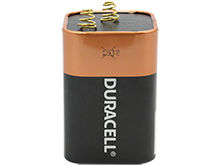6V: (60, 4, 159, 162)
